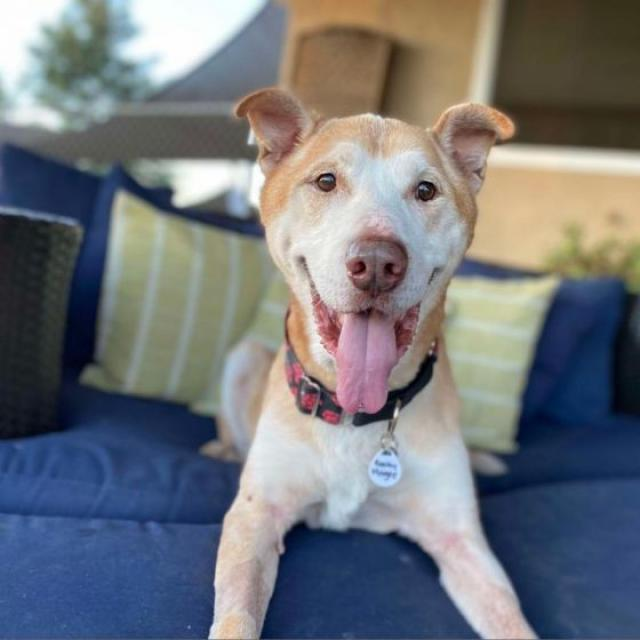labrador_retriever_dog: (204, 78, 523, 435)
